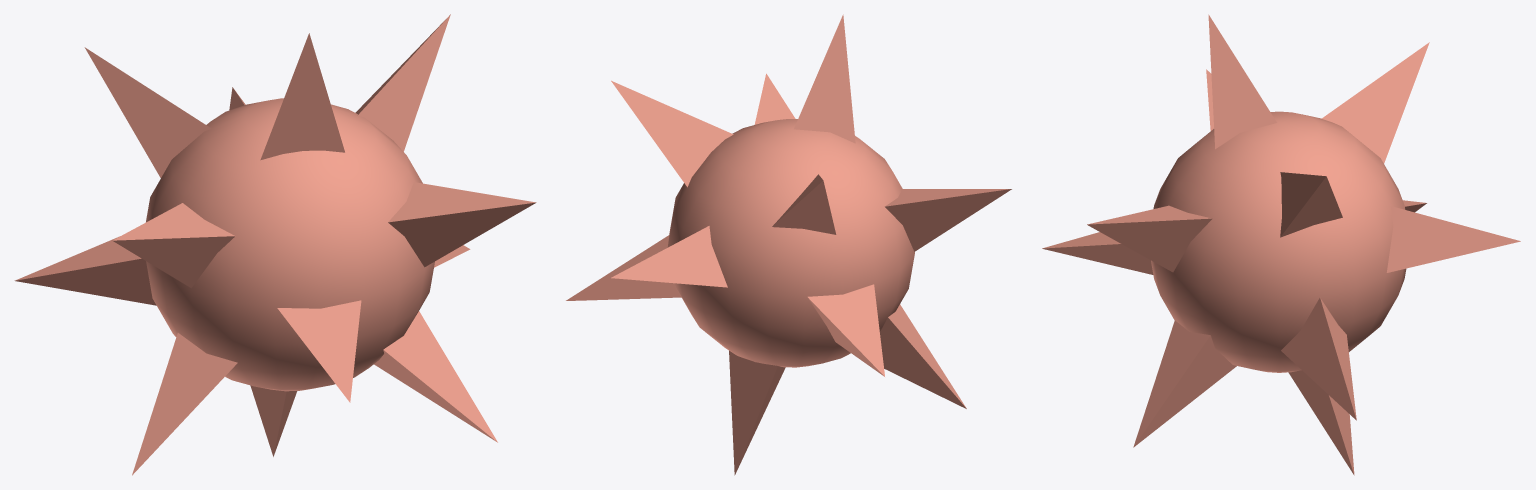
File: SPICKY.fbx
3 renders of one model, left to right at view 1: azimuth 30°, elevation 25°; view 2: azimuth 150°, elevation 25°; view 3: azimuth 270°, elevation 25°, orthographic. The views are drawn at different scales.
Visible parts, largest first — view 1: Sphere; view 2: Sphere; view 3: Sphere.
Part boxes in pixels (bbox=[...]): Sphere: bbox=[14, 14, 536, 475]; Sphere: bbox=[566, 14, 1011, 475]; Sphere: bbox=[1042, 14, 1520, 475].
Size of the model in its own units: 34.81 by 37.23 by 36.66.
